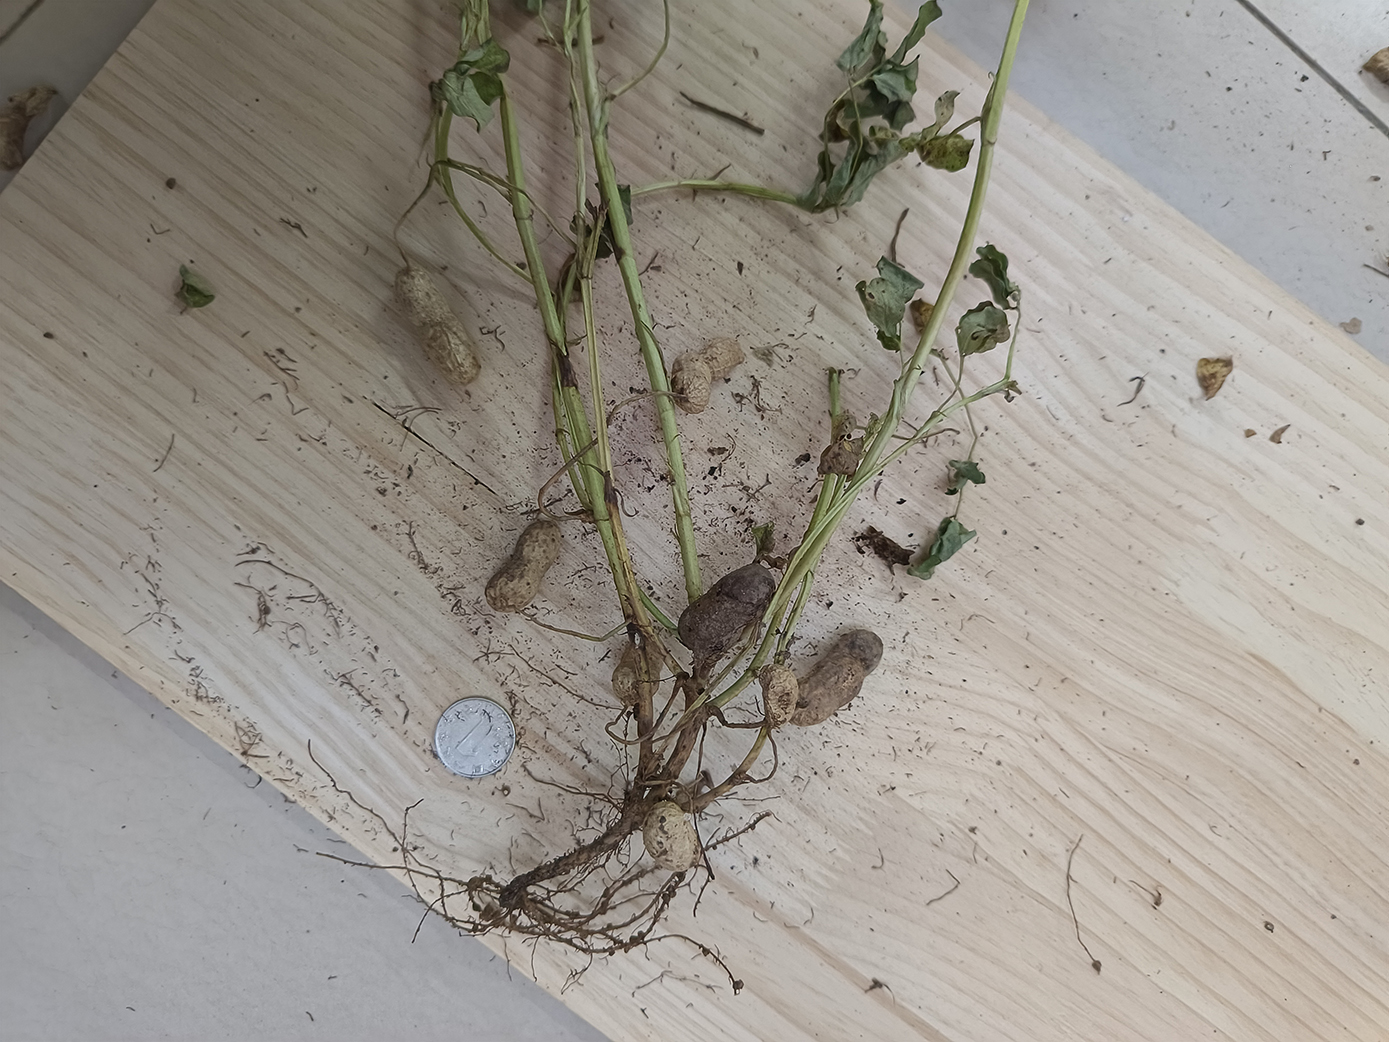h: (393, 263, 481, 385), (485, 520, 563, 613), (671, 335, 741, 415), (641, 798, 701, 870), (611, 642, 663, 703), (757, 665, 797, 723)
l: (678, 561, 774, 655), (796, 629, 886, 728)
